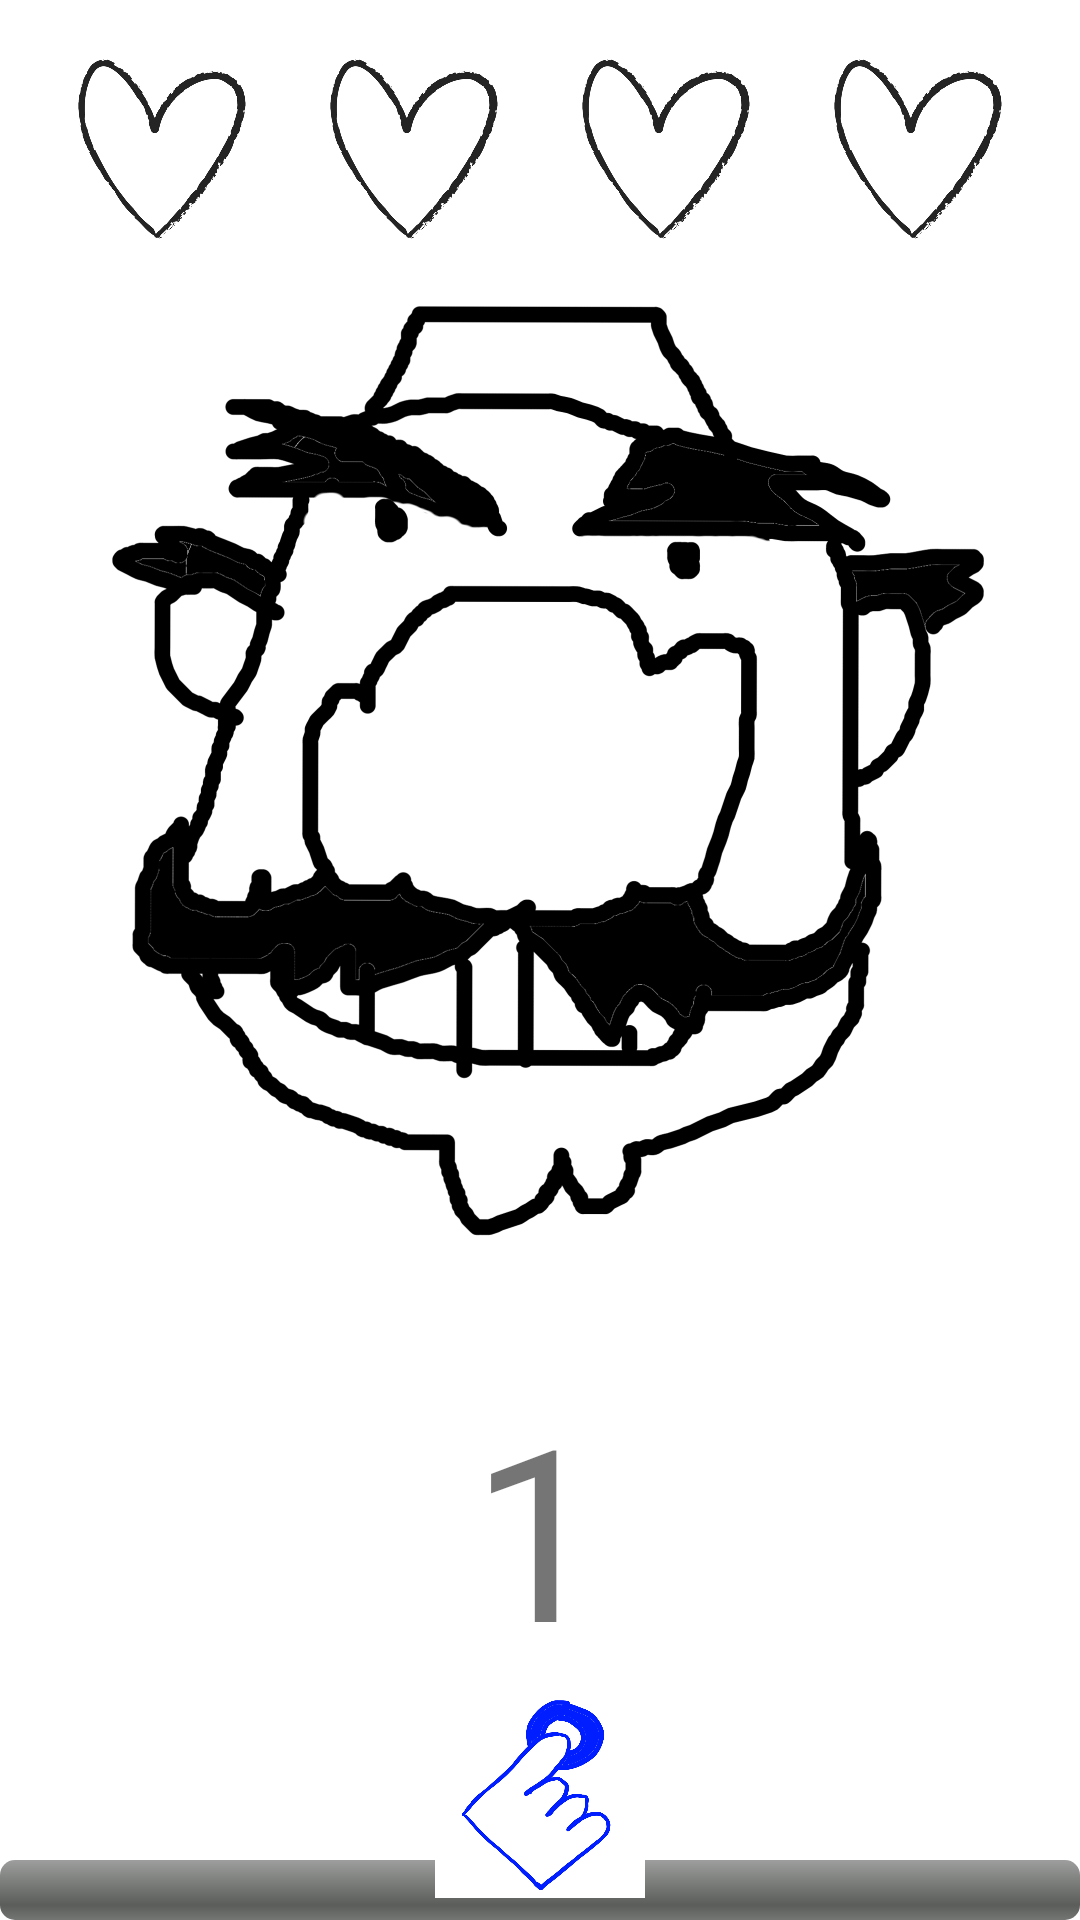

Icons on this 1080*1920 Android screen, each with the point to tap as point (x, y):
life heart: point (162, 149), point (414, 149), point (666, 149), point (918, 149)
symbol touch: point (536, 1795)
